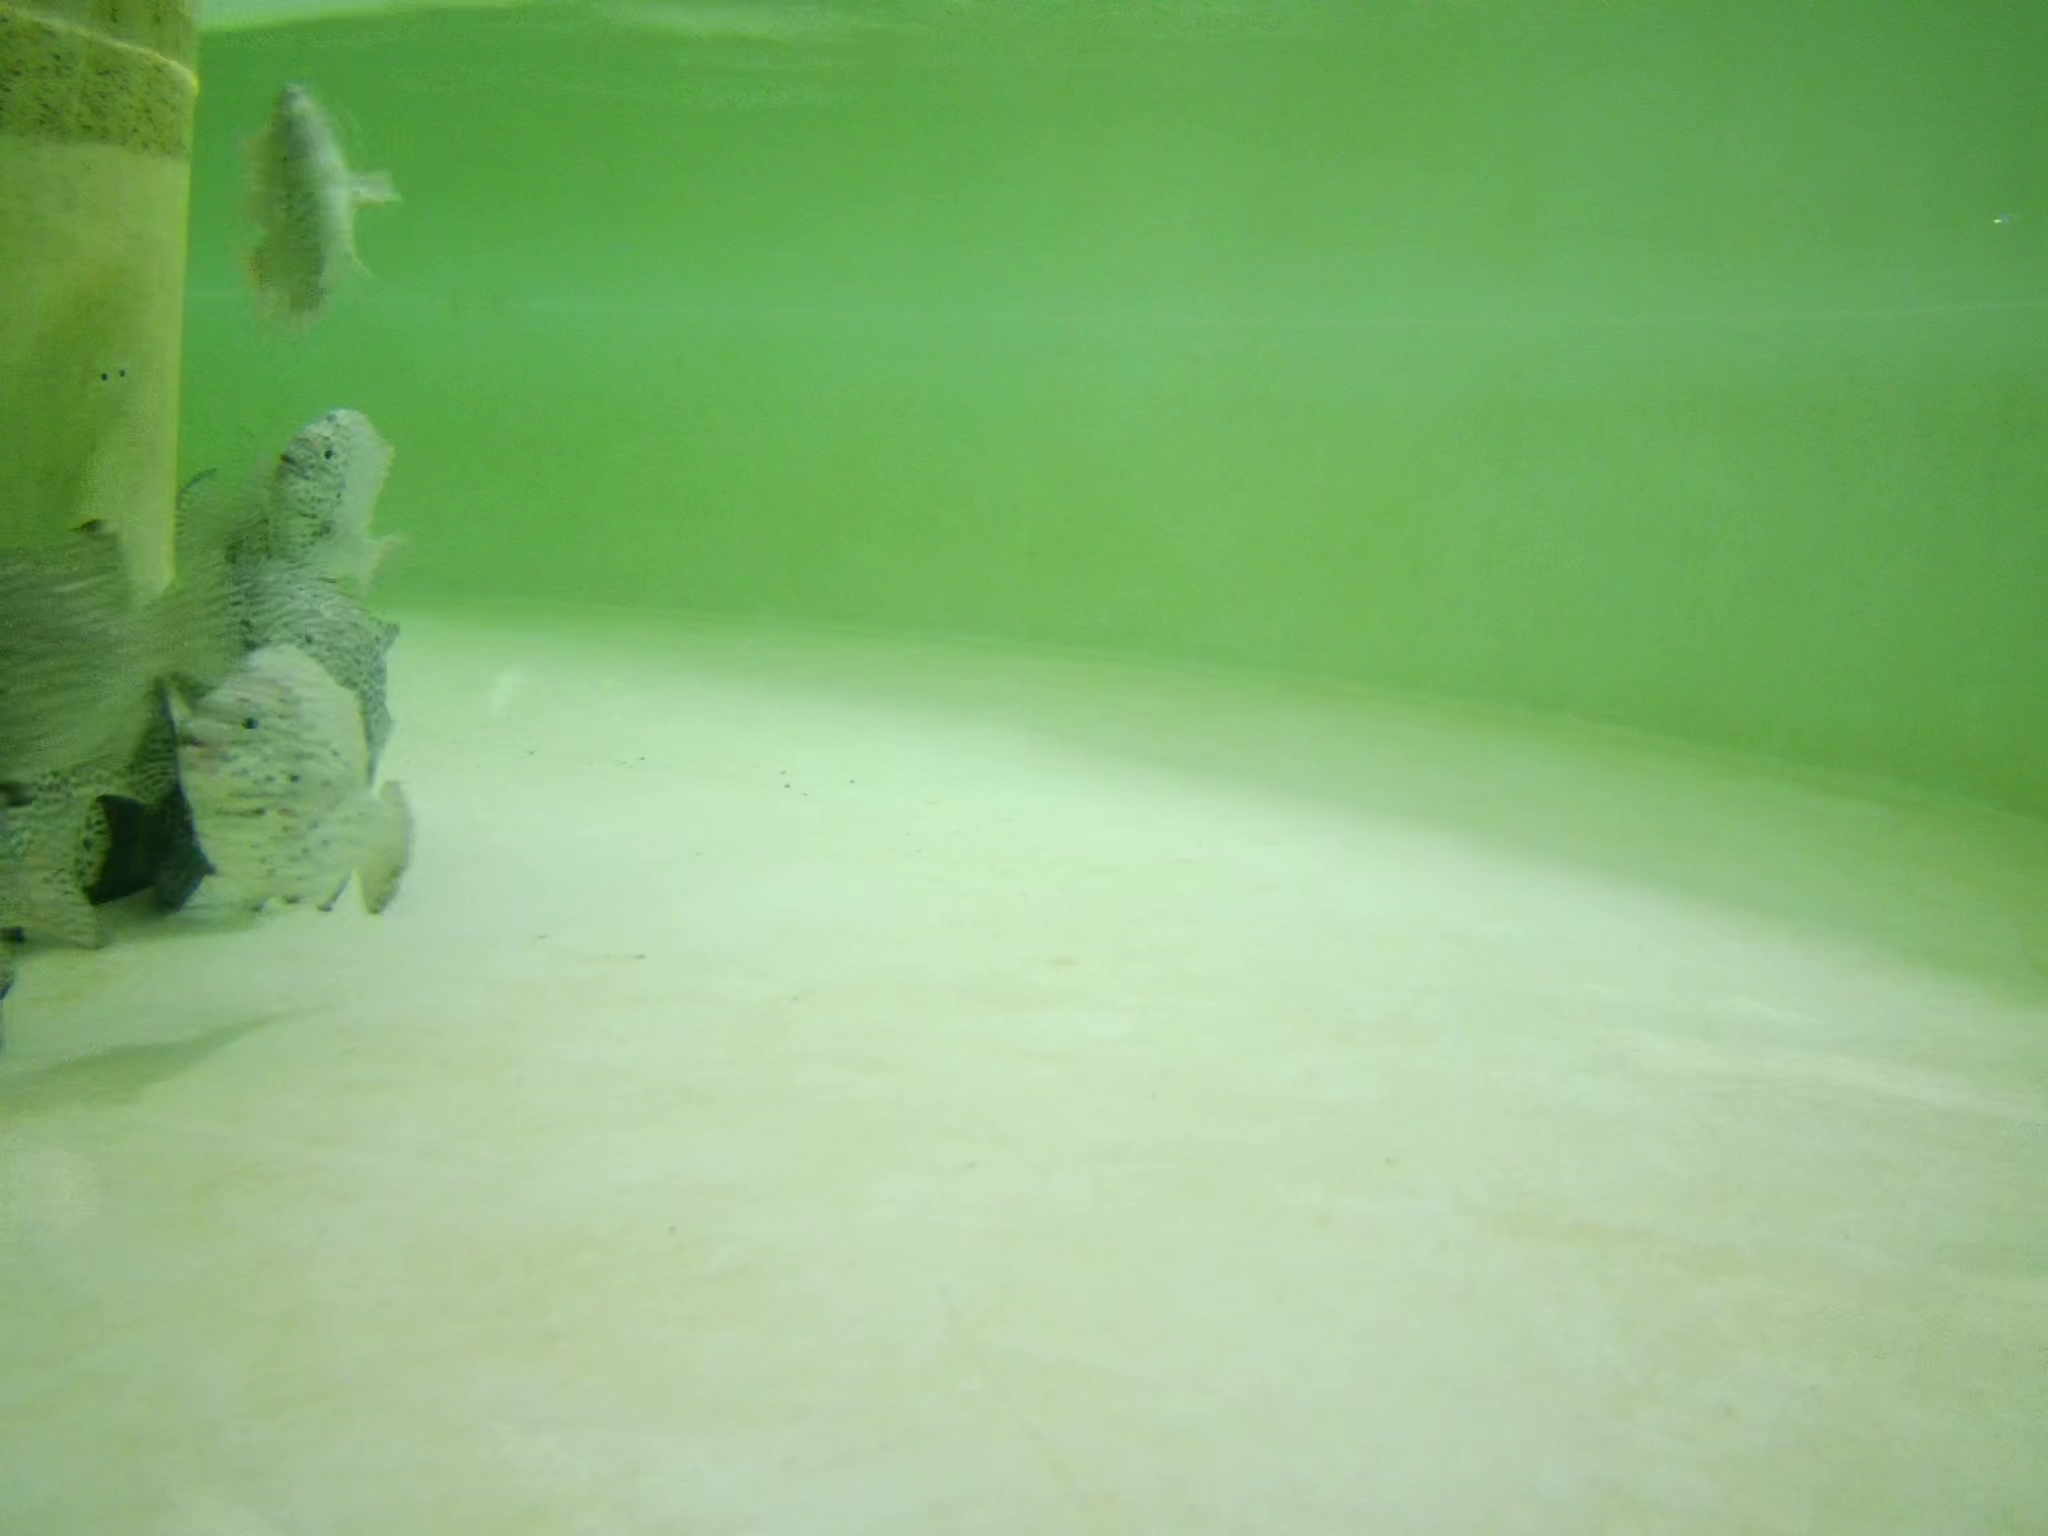fish: (185, 631, 427, 950), (2, 516, 182, 841), (206, 579, 398, 787), (237, 378, 411, 594), (237, 82, 395, 319), (2, 781, 127, 971)
